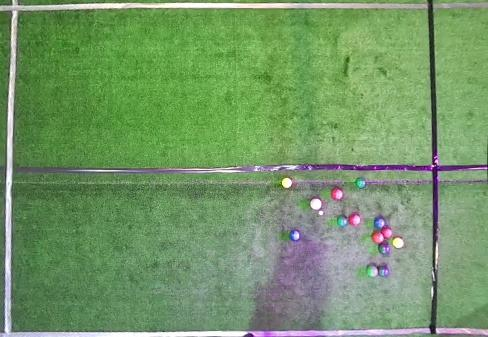blue: (374, 218, 385, 229), (289, 231, 300, 241)
green: (366, 266, 378, 278), (355, 178, 366, 189), (379, 266, 389, 278), (379, 244, 390, 254), (338, 216, 347, 226)
red: (309, 198, 322, 210), (331, 188, 342, 201), (372, 232, 383, 244), (349, 214, 360, 226), (382, 228, 392, 238)
vline: (427, 0, 487, 336), (0, 0, 20, 336)
white: (319, 211, 323, 215)
yellow: (393, 237, 404, 248), (281, 178, 292, 188)
